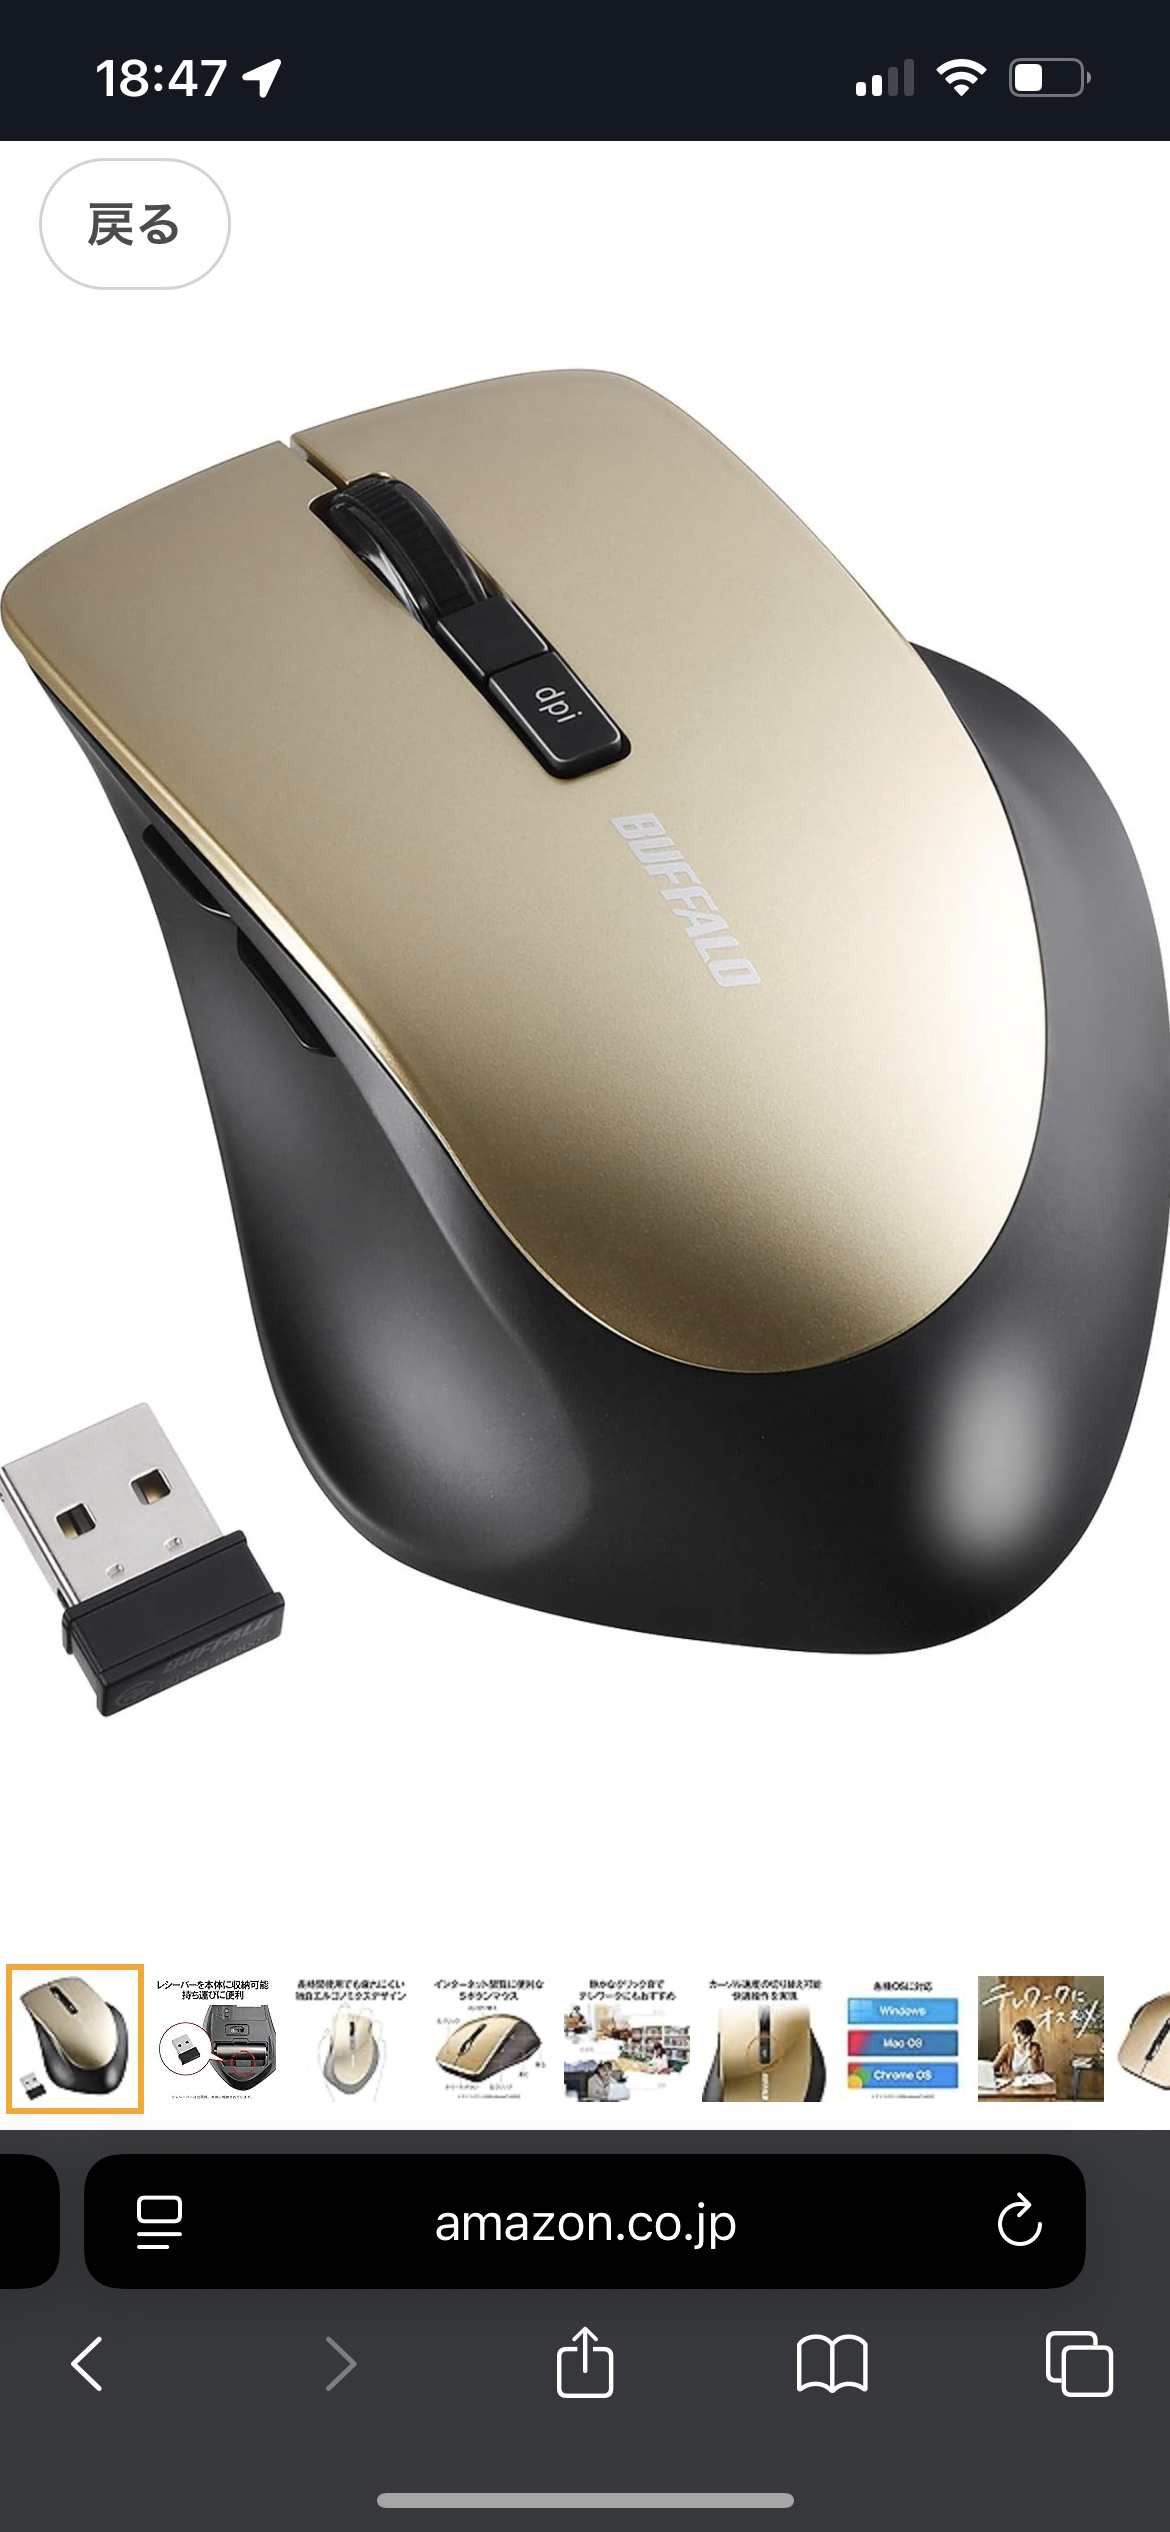mouse: (491, 346, 676, 1637)
